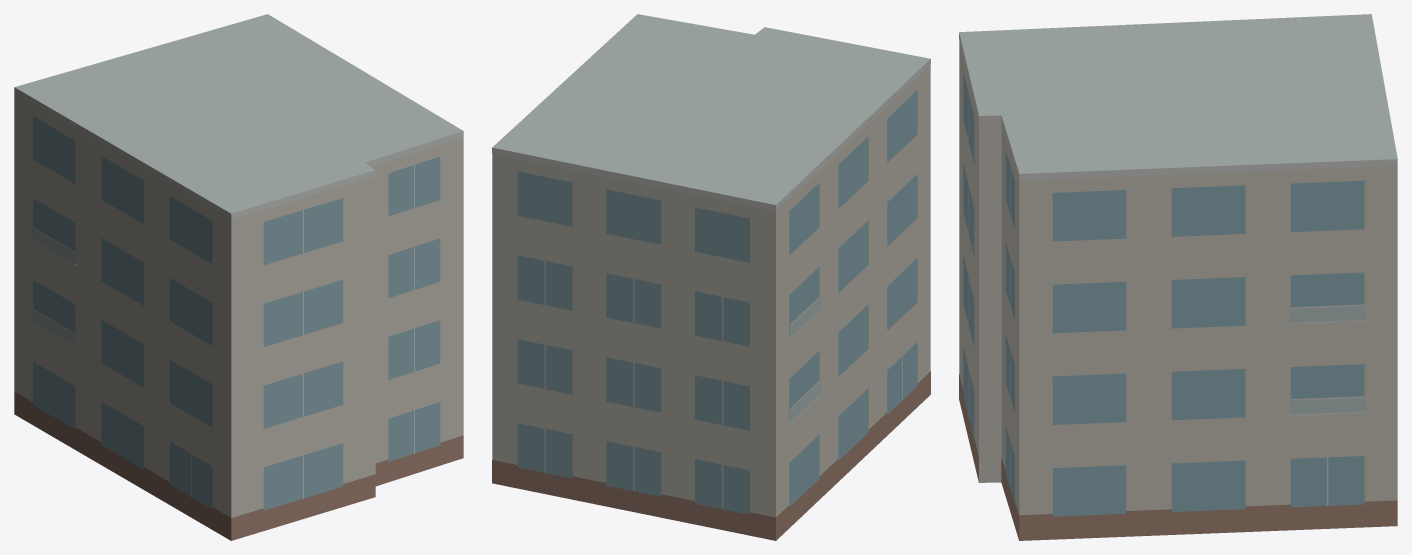
File: survey-upis-32629316.glb
The picture shows the model from 3 angles, left to right: view 1: azimuth 30°, elevation 25°; view 2: azimuth 150°, elevation 25°; view 3: azimuth 270°, elevation 25°; orthographic projection. The views are drawn at different scales.
Visible parts, largest first — view 1: survey-upis-32629316.tmp; view 2: survey-upis-32629316.tmp; view 3: survey-upis-32629316.tmp.
Part boxes in pixels (<box>): survey-upis-32629316.tmp: <box>14,14,463,540</box>; survey-upis-32629316.tmp: <box>492,14,930,540</box>; survey-upis-32629316.tmp: <box>959,14,1397,540</box>.
Size of the model in its own units: 12.34 by 13.2 by 14.31.
